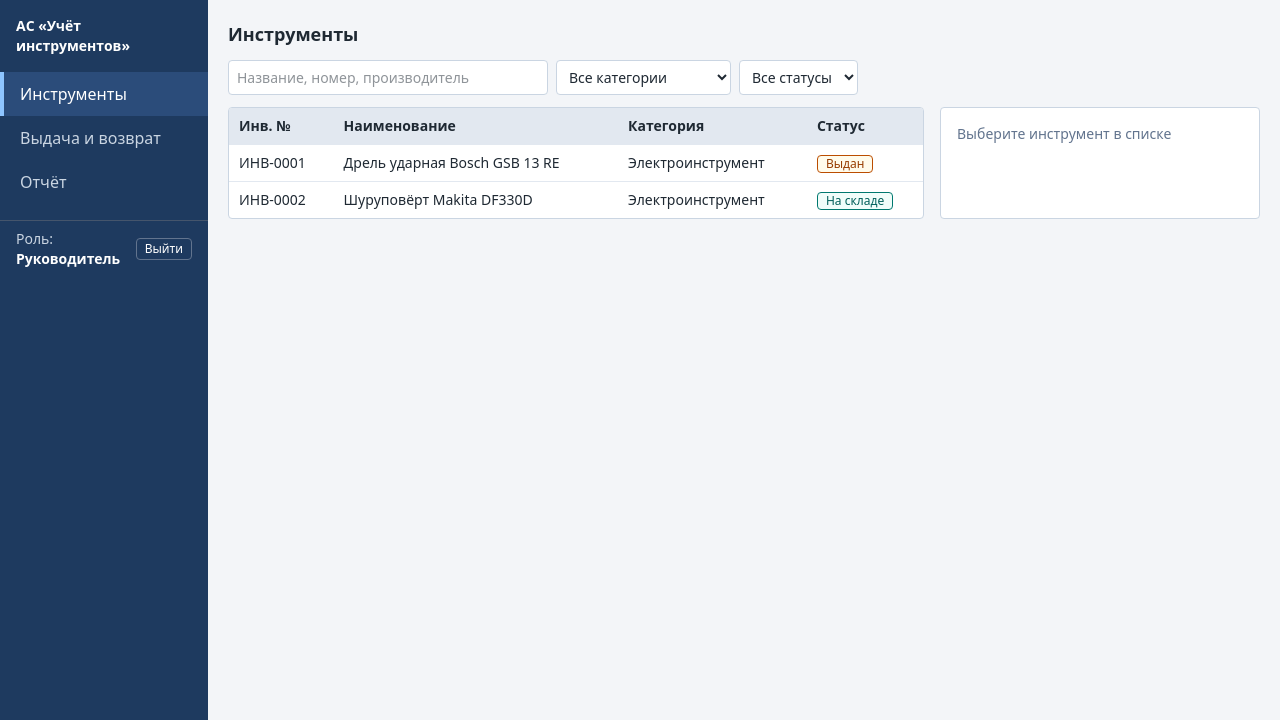
it: role-based access › shows the issue history to the manager
Click the text "Шуруповёрт Makita DF330D" at {"x": 476, "y": 200}, box [334,182,618,218]
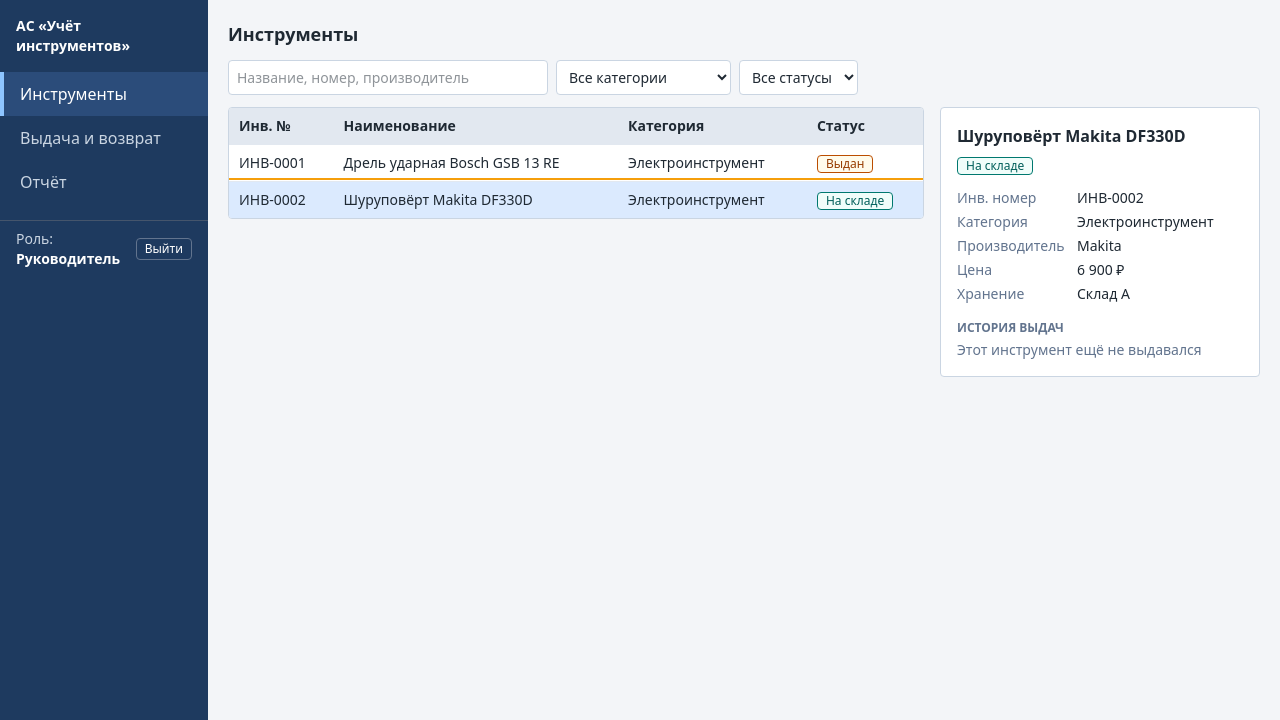
Expected: the heading "История выдач" is shown, [957,319,1064,336]
